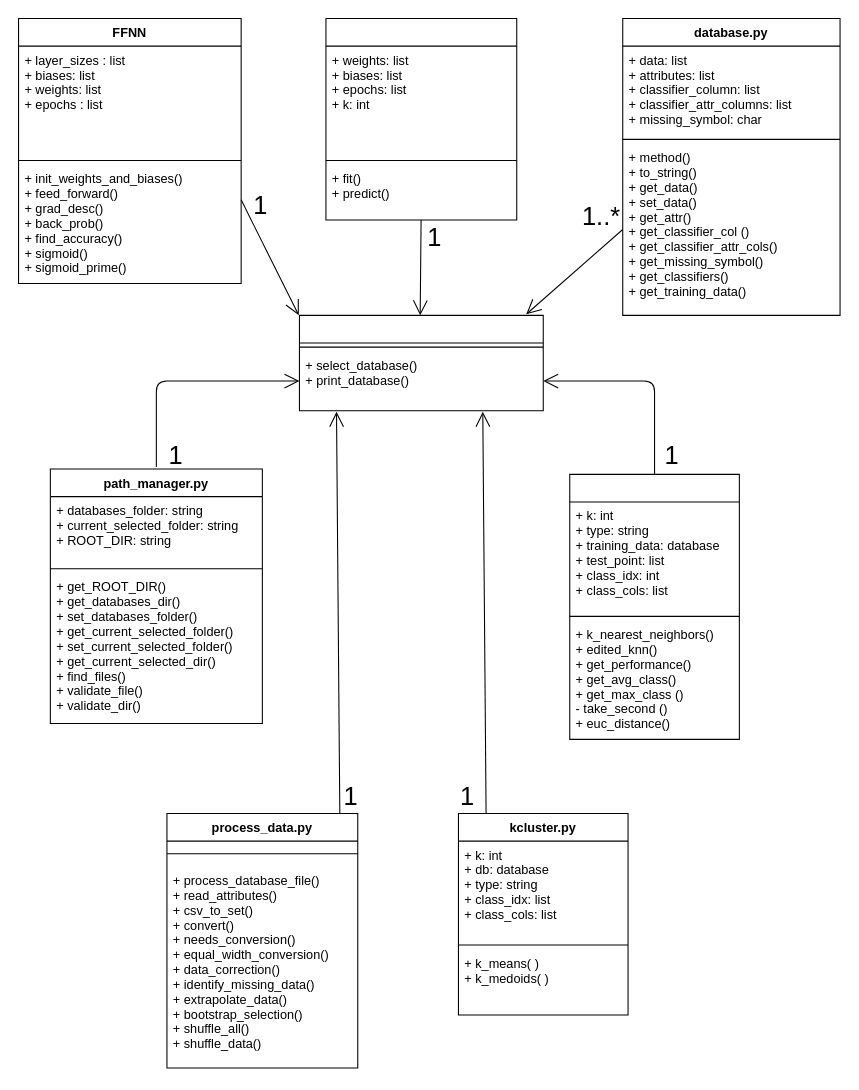
Some shapes in this 859 by 1090 pixel diagram are drawn without their labels. Each missing label, with the box of its shape:
main.py: (298, 314, 543, 411)
nearest_neighbors.py: (569, 473, 739, 739)
RBFNN: (325, 17, 517, 220)
